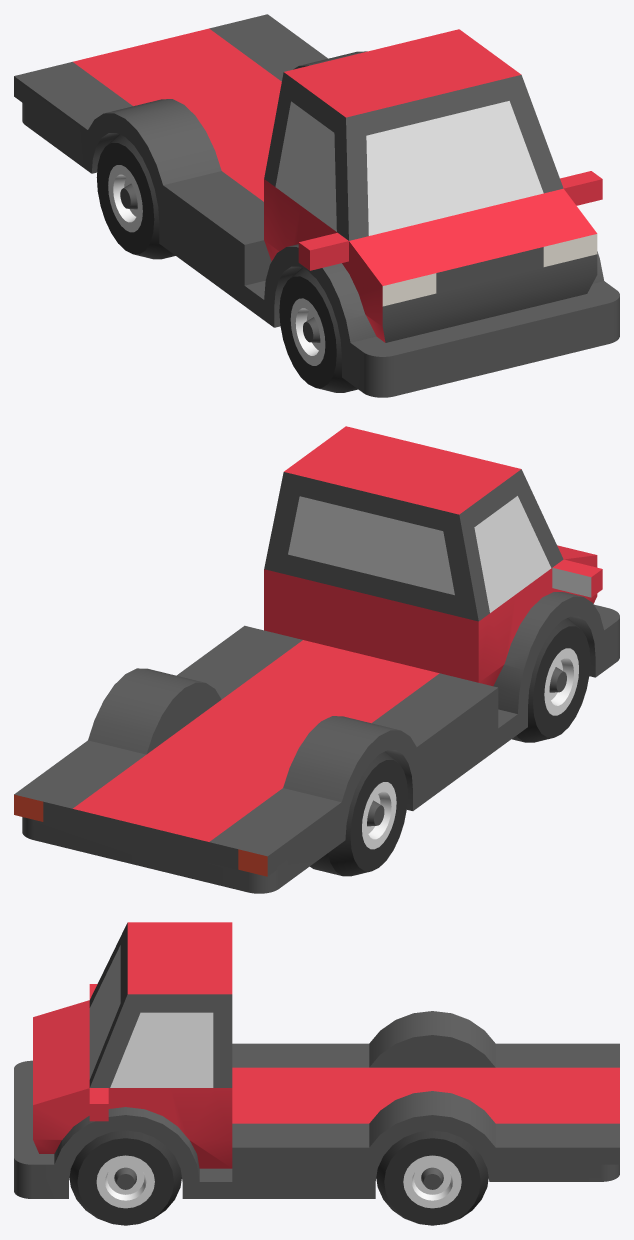
Rendered from deliveryFlat.fbx.
3 renders of one model, top to bottom at view 1: azimuth 30°, elevation 25°; view 2: azimuth 150°, elevation 25°; view 3: azimuth 270°, elevation 25°, orthographic. The views are drawn at different scales.
Parts seen in each view (by area): view 1: body, wheel_backRight, wheel_frontRight; view 2: body, wheel_backRight, wheel_frontRight; view 3: body, wheel_backLeft, wheel_frontLeft.
Part boxes in pixels (bbox=[...]): body: bbox=[14, 14, 619, 397]; wheel_backRight: bbox=[96, 134, 175, 259]; wheel_frontRight: bbox=[279, 268, 357, 392]; body: bbox=[14, 426, 619, 893]; wheel_backRight: bbox=[310, 751, 407, 876]; wheel_frontRight: bbox=[512, 618, 590, 742]; body: bbox=[14, 922, 619, 1198]; wheel_backLeft: bbox=[376, 1130, 488, 1225]; wheel_frontLeft: bbox=[69, 1130, 181, 1225].
Size of the model in its own units: 15 by 13 by 32.
